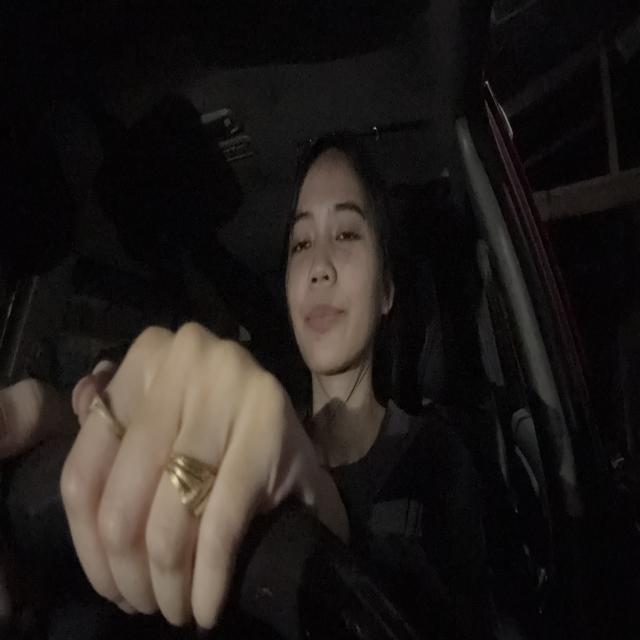open: (332, 202, 371, 254), (289, 202, 317, 262)
